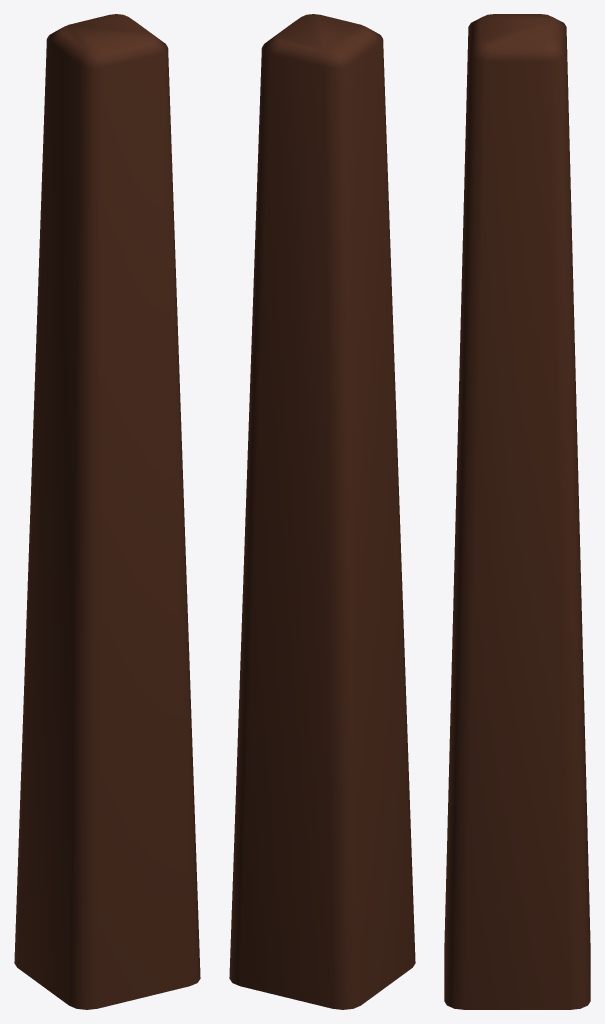
Rendered from Hammer.fbx.
The picture shows the model from 3 angles, left to right: view 1: azimuth 30°, elevation 25°; view 2: azimuth 150°, elevation 25°; view 3: azimuth 270°, elevation 25°; orthographic projection.
Visible parts, largest first — view 1: Cube.004; view 2: Cube.004; view 3: Cube.004.
Part boxes in pixels (bbox=[...]): Cube.004: bbox=[14, 14, 200, 1009]; Cube.004: bbox=[229, 14, 415, 1009]; Cube.004: bbox=[444, 14, 590, 1009].
Bounding box in the file's own units: 53.69 × 374 × 52.41.
